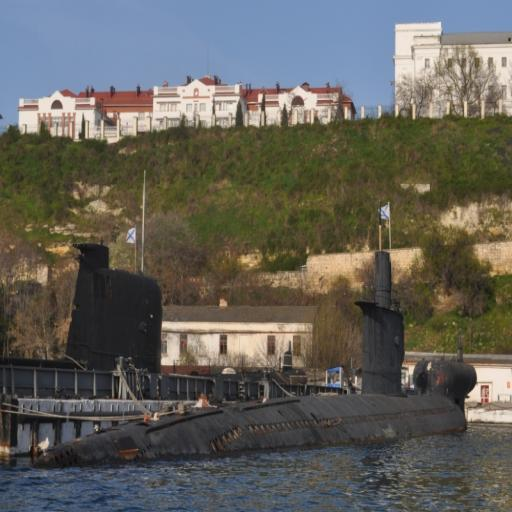submarine: (34, 245, 484, 469)
